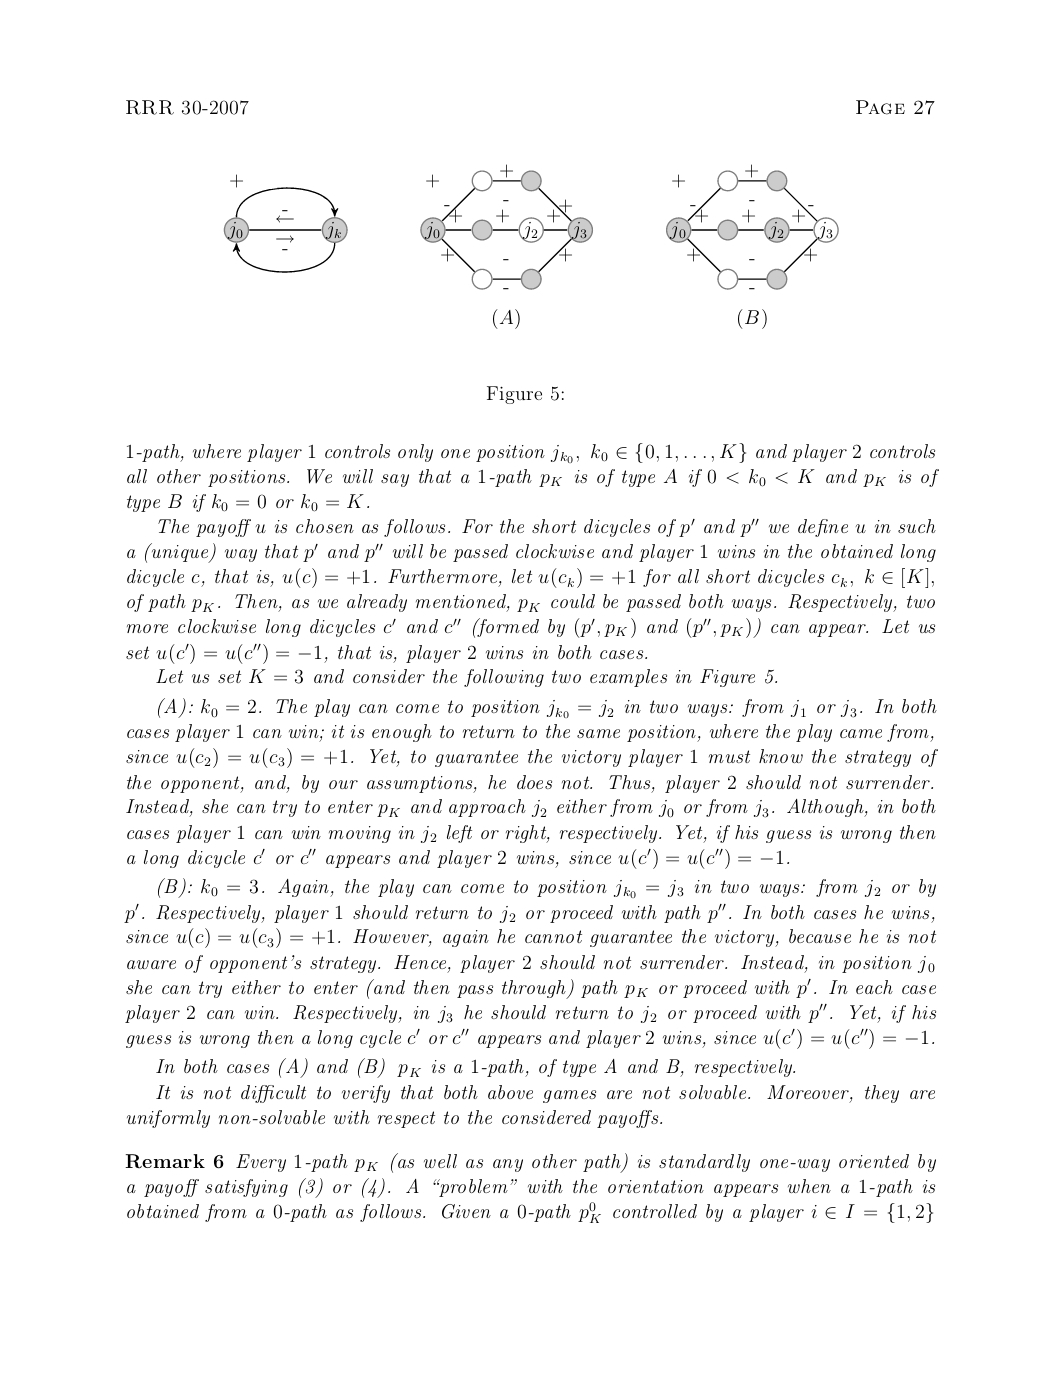figure: (420, 163, 592, 290), (666, 163, 838, 290), (223, 173, 347, 273)
